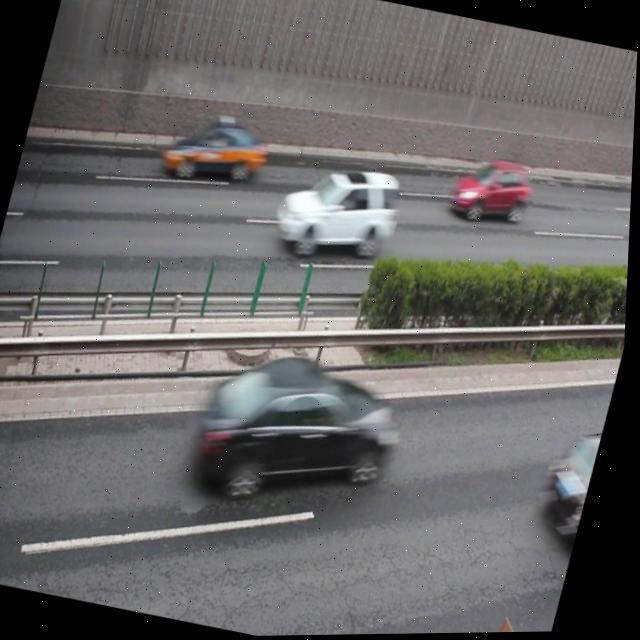car: (188, 335, 414, 523), (268, 154, 407, 274), (157, 110, 273, 200), (533, 426, 605, 553), (446, 150, 540, 232)
